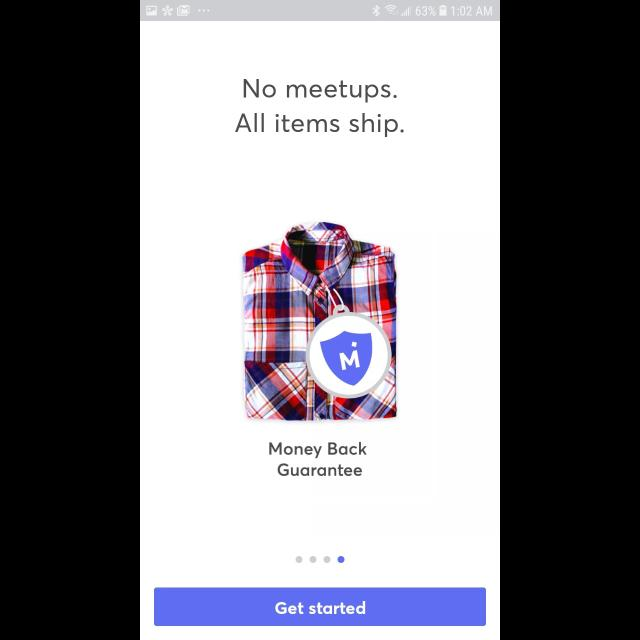image: (242, 223, 398, 422)
pageindicator: (296, 556, 344, 564)
text: (236, 78, 404, 138), (269, 442, 367, 476)
textbutton: (154, 588, 486, 626)
uppertaskbar: (140, 1, 500, 22)
